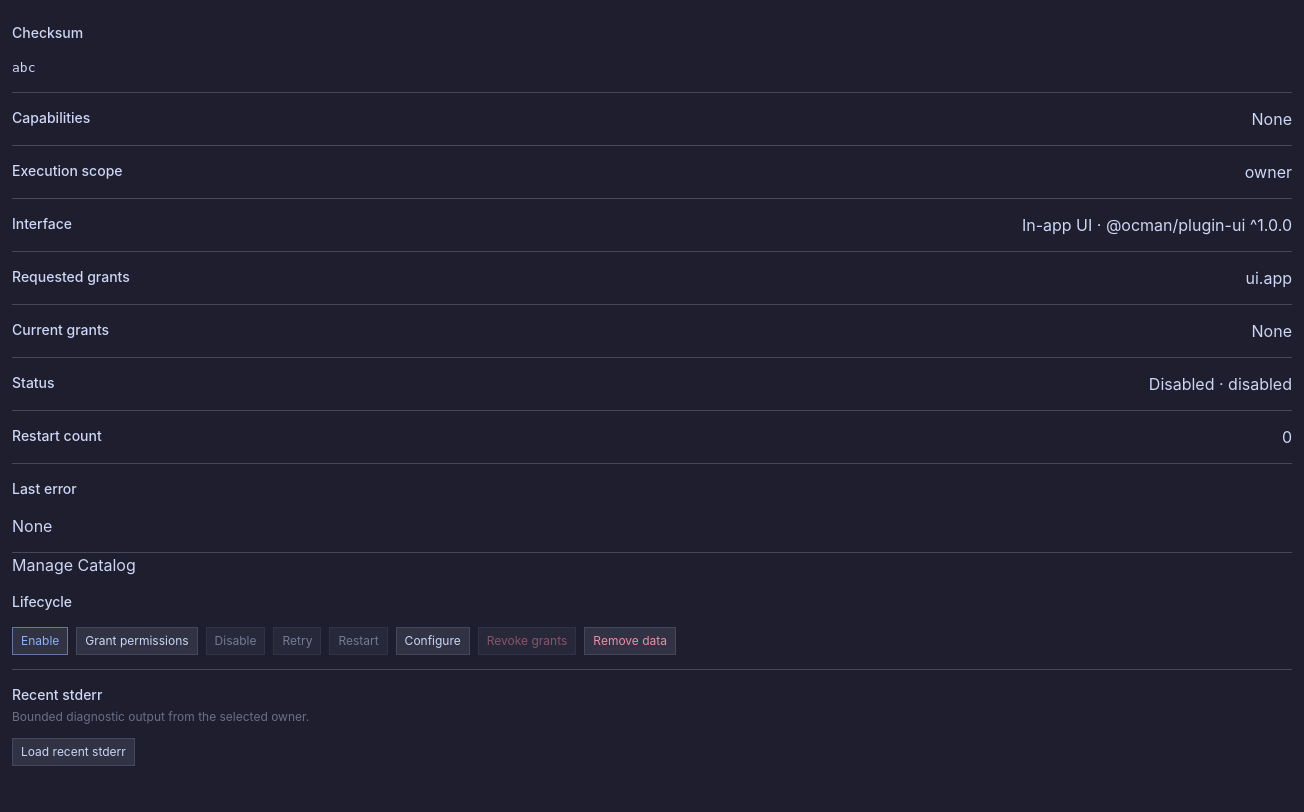
Test: explains that remote owners keep declarative views
(page scrolled)
Click the button "Enable". click: (40, 640)
box: [12,626,68,654]
(page scrolled)
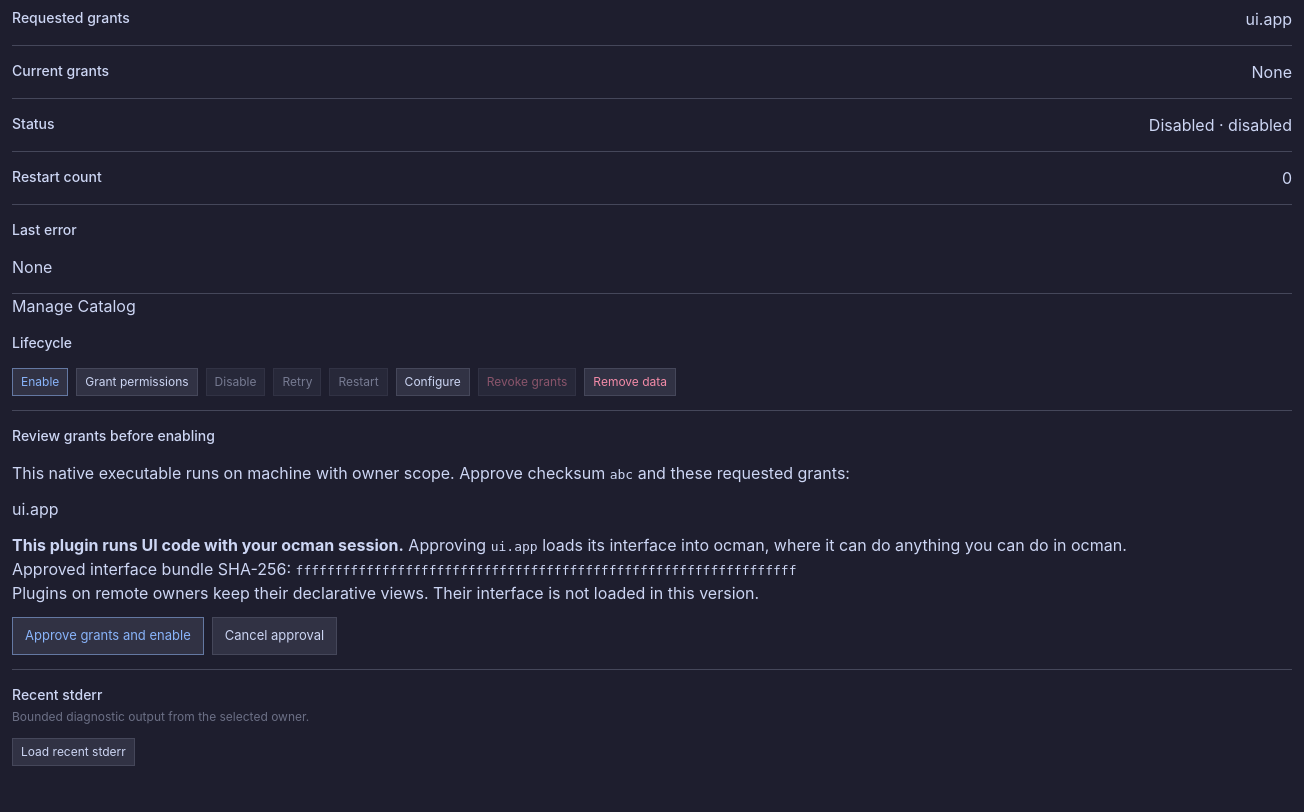
Check: the element named "Plugin interface disclosure" shows "Plugins on remote owners keep their declarative views.", box [12,582,759,602]
